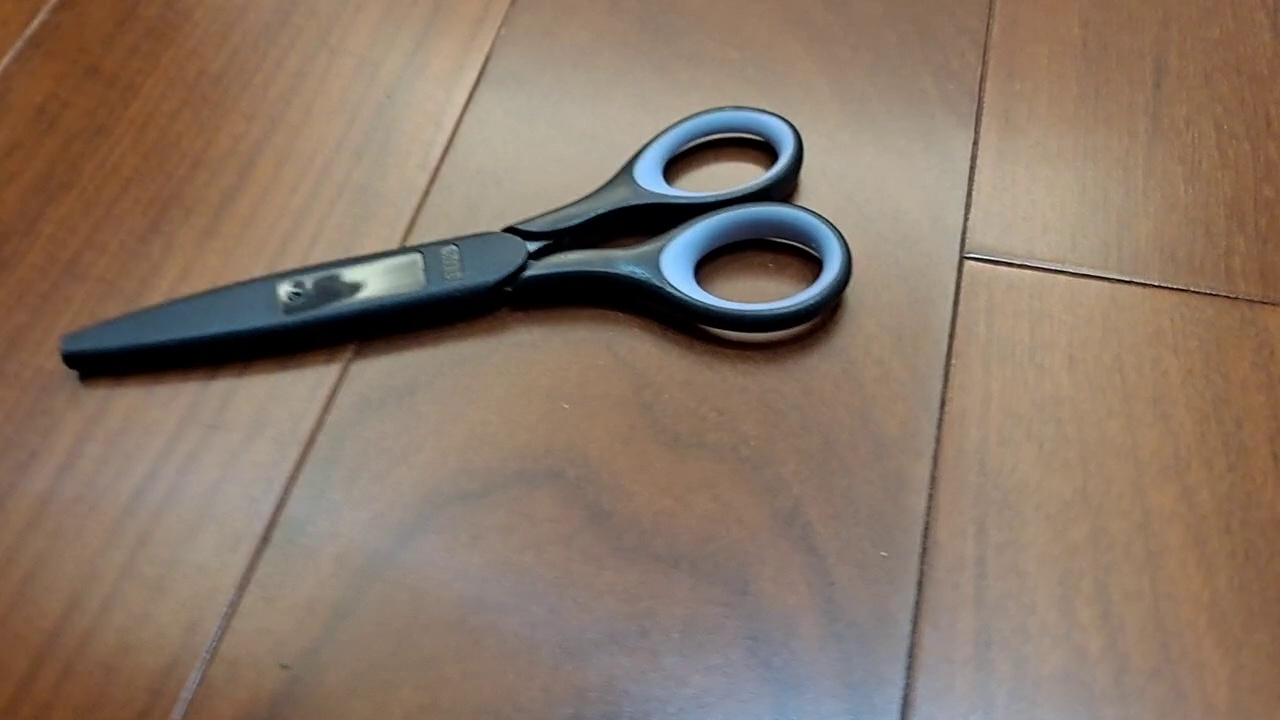scissors: (57, 102, 853, 384)
